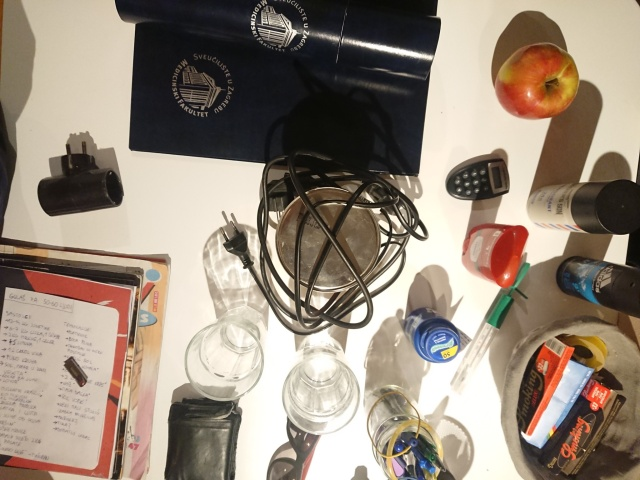Nescafe Classic 225g: (272, 184, 384, 296)
